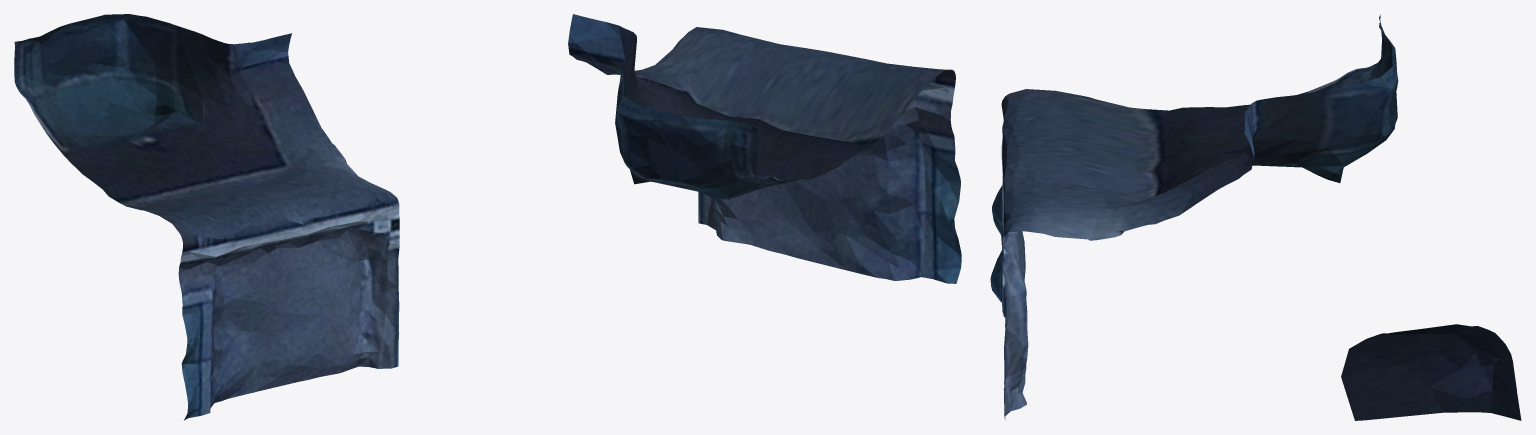
Rendered from tile_5_21_24_tex.obj.
3 views of the same model, side by side, from view 1: azimuth 30°, elevation 25°; view 2: azimuth 150°, elevation 25°; view 3: azimuth 270°, elevation 25° (orthographic). The views are drawn at different scales.
Visible parts, largest first — view 1: obj_0; view 2: obj_0; view 3: obj_0.
Part boxes in pixels (left/top/right/bottom): obj_0: left=14, top=14, right=399, bottom=420; obj_0: left=568, top=14, right=961, bottom=283; obj_0: left=990, top=14, right=1521, bottom=420.
Bounding box in the file's own units: 5.01 × 5.64 × 9.43.
Materials: 1 (1 with a texture image).
